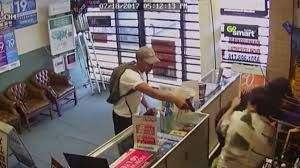gun: (172, 94, 203, 118)
